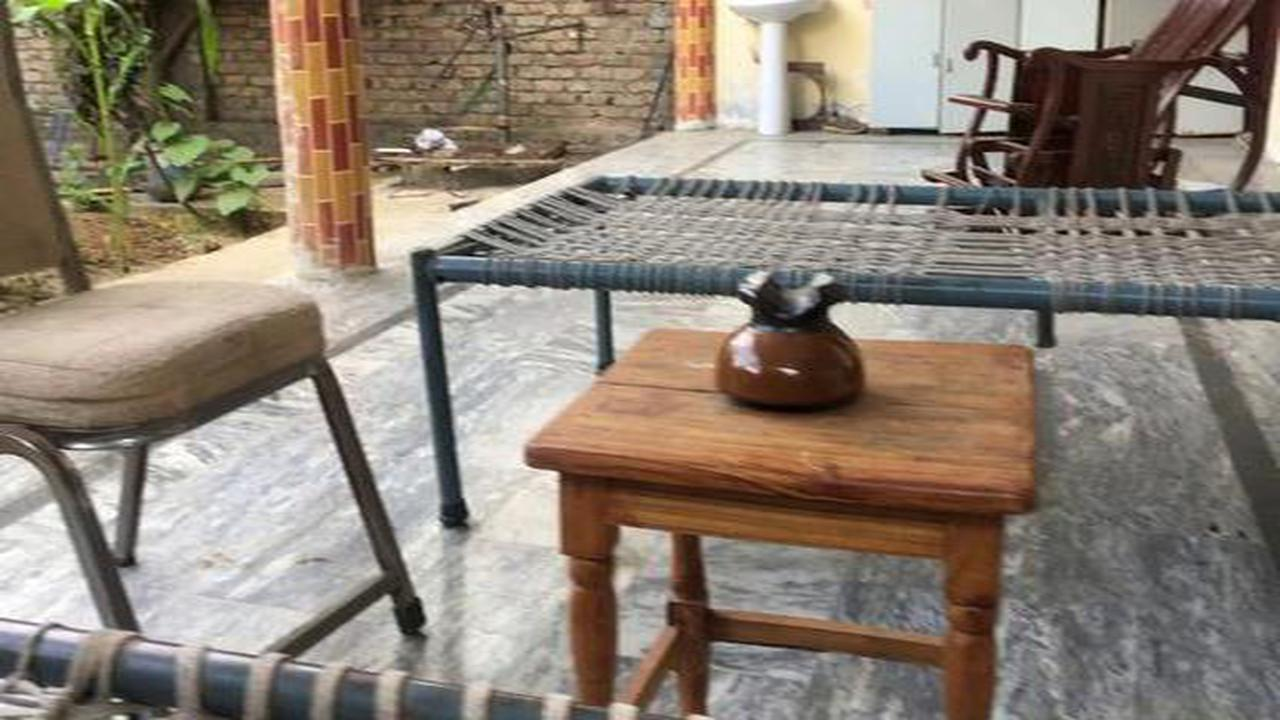insulator_pin: (702, 255, 887, 421)
